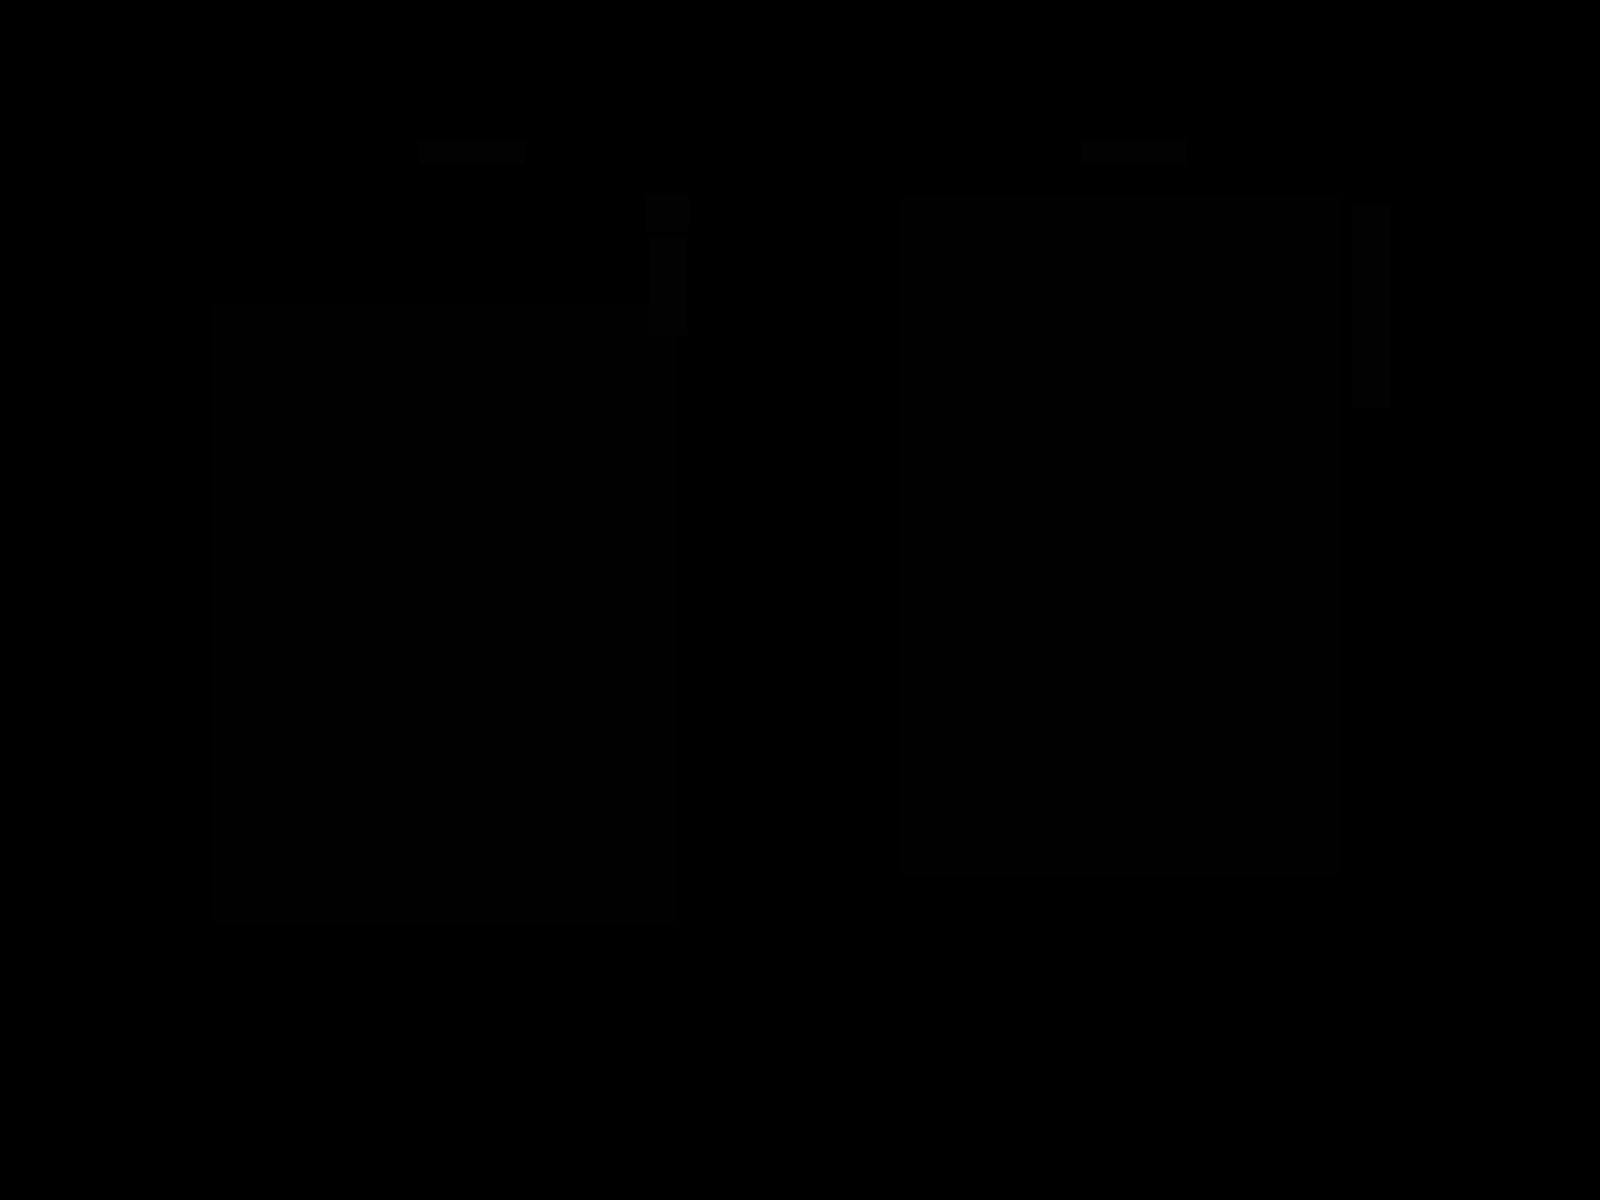1_overall: (77, 57, 1524, 1005)
3_typography: (1352, 205, 1391, 408), (649, 236, 687, 335), (1082, 139, 1187, 164), (420, 141, 525, 164)
4_illustration: (901, 195, 1340, 875), (212, 304, 677, 924)
5_stamp: (645, 194, 689, 231)
